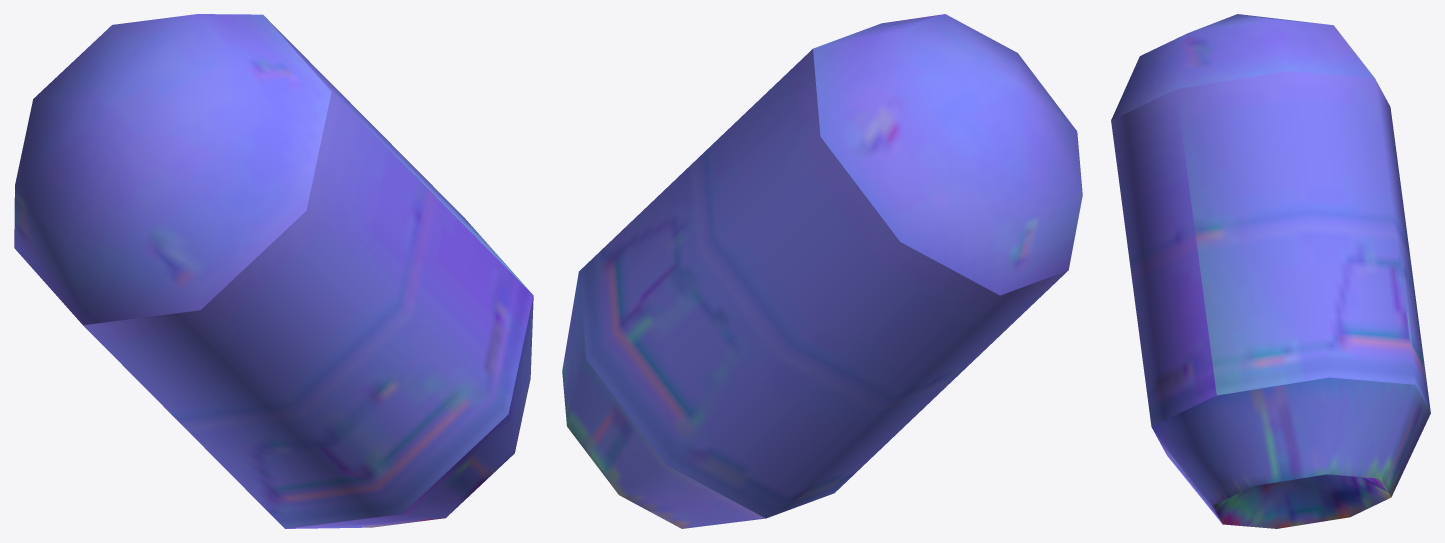
Rendered from shipScrapPart_02.glb.
3 views of the same model, side by side, from view 1: azimuth 30°, elevation 25°; view 2: azimuth 150°, elevation 25°; view 3: azimuth 270°, elevation 25° (orthographic). The views are drawn at different scales.
Parts seen in each view (by area): view 1: shipScrapPart_02; view 2: shipScrapPart_02; view 3: shipScrapPart_02.
Boxes of the visible parts, <box> form: shipScrapPart_02: <box>14,14,533,528</box>; shipScrapPart_02: <box>562,14,1082,528</box>; shipScrapPart_02: <box>1111,14,1430,528</box>.
Size of the model in its own units: 1.21 by 1.32 by 0.8682.
Materials: 1 (1 with a texture image).
